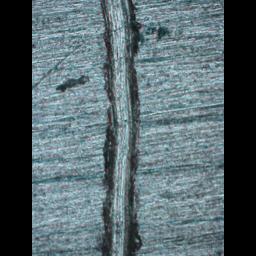d: (95, 0, 143, 254)
